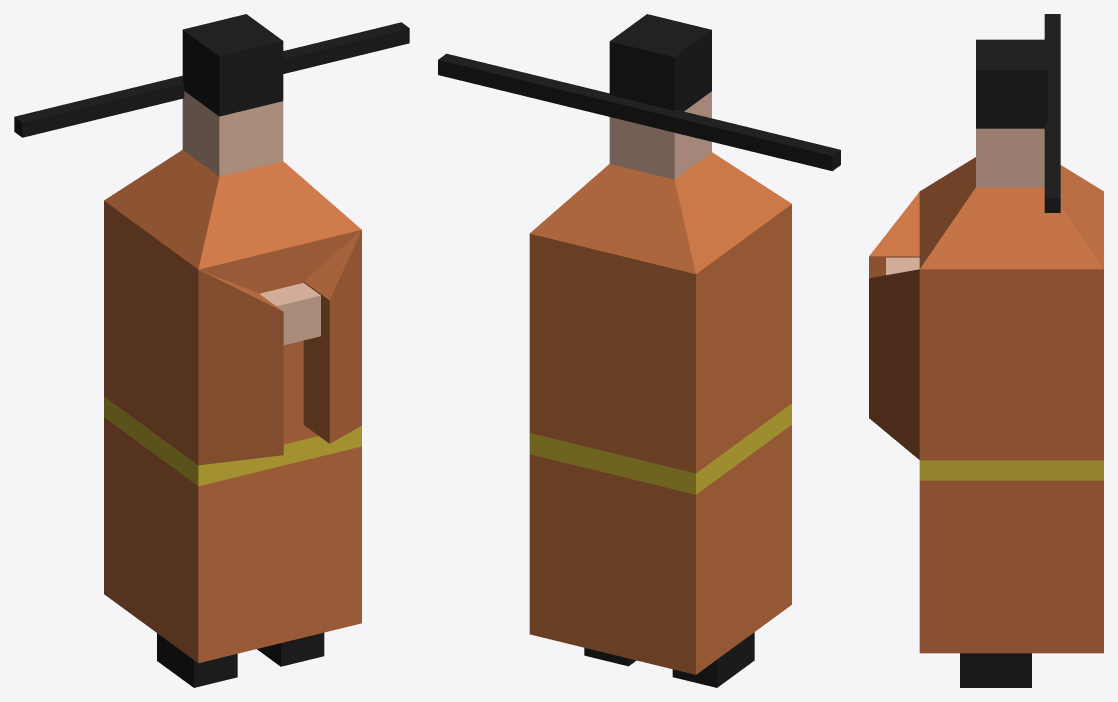
Rendered from Empl_03.fbx.
3 views of the same model, side by side, from view 1: azimuth 30°, elevation 25°; view 2: azimuth 150°, elevation 25°; view 3: azimuth 270°, elevation 25° (orthographic). The views are drawn at different scales.
Visible parts, largest first — view 1: Empl_03, Empl_03_Head, Empl_03_LegRight, Empl_03_LegLeft; view 2: Empl_03, Empl_03_Head, Empl_03_LegRight; view 3: Empl_03, Empl_03_Head, Empl_03_LegLeft.
Boxes of the visible parts, x1,y1,x2,y2 form: Empl_03: [104, 150, 361, 663]; Empl_03_Head: [14, 14, 409, 176]; Empl_03_LegRight: [157, 633, 237, 687]; Empl_03_LegLeft: [257, 632, 324, 666]; Empl_03: [529, 152, 791, 674]; Empl_03_Head: [438, 14, 840, 179]; Empl_03_LegRight: [672, 632, 754, 687]; Empl_03: [869, 157, 1103, 653]; Empl_03_Head: [976, 14, 1060, 212]; Empl_03_LegLeft: [960, 653, 1031, 687].
Bounding box in the file's own units: 1.31 × 1.99 × 0.7041.
